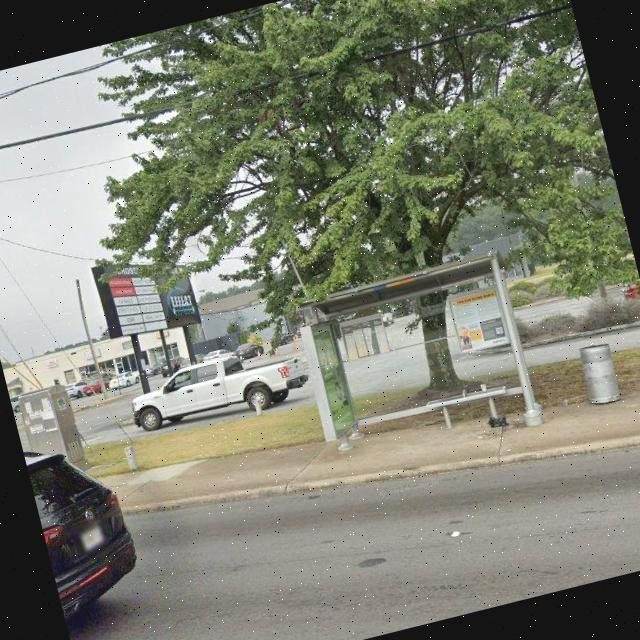seating: (423, 378, 514, 438)
shelter: (285, 250, 542, 476)
trash_can: (576, 339, 623, 406)
